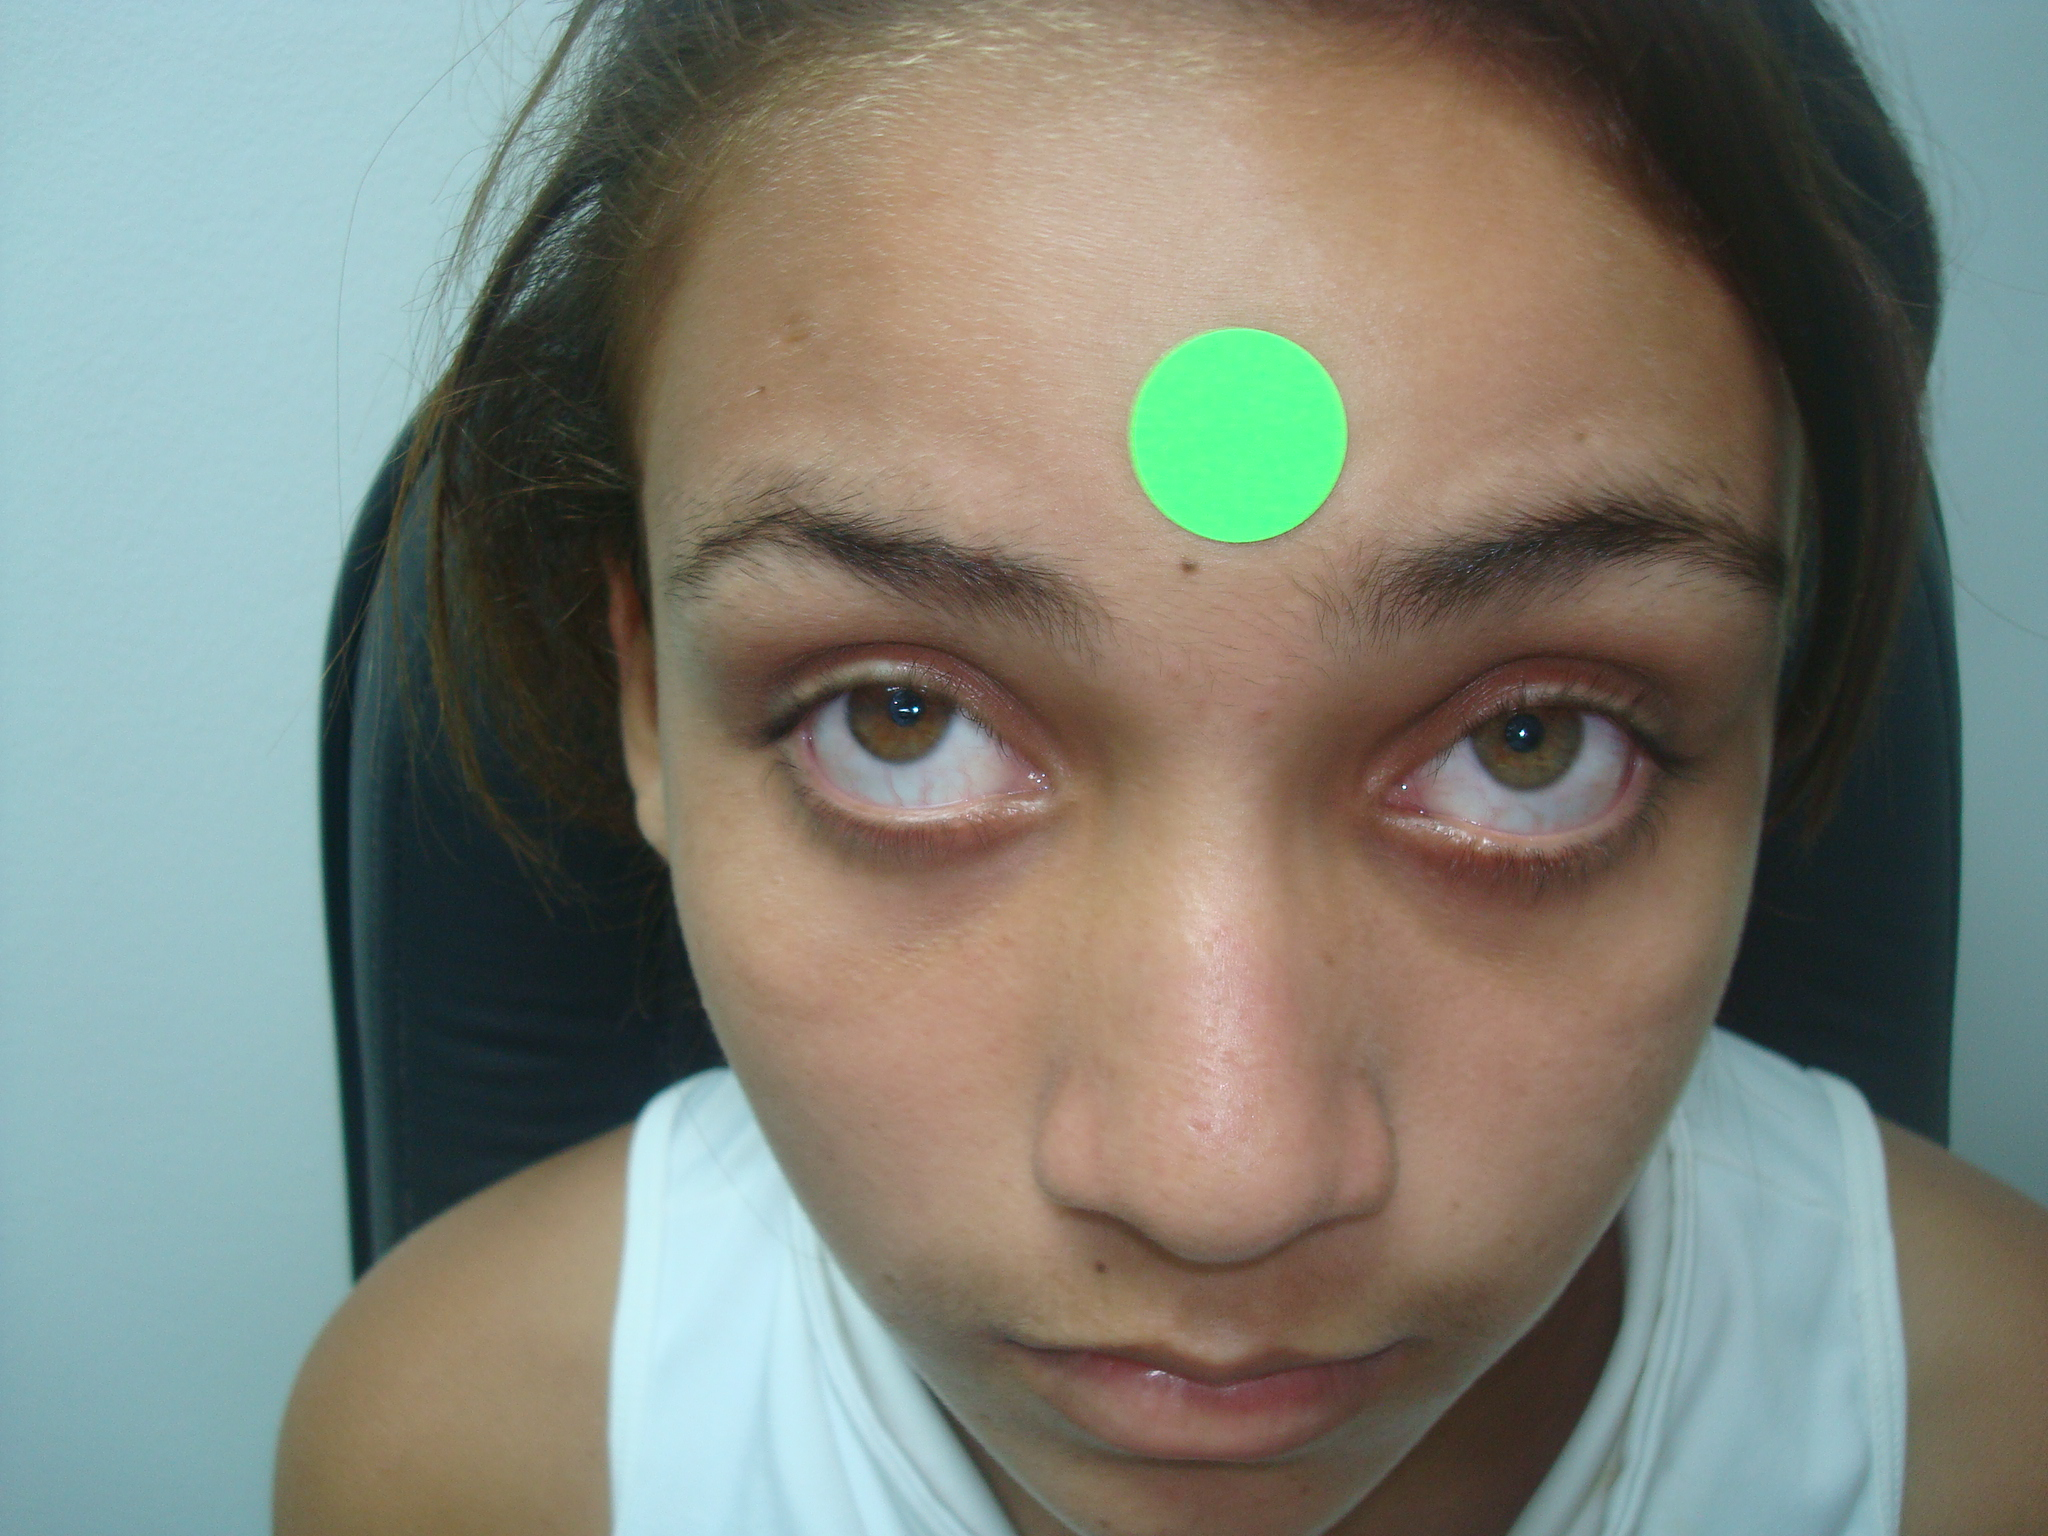flash: (1514, 726, 1529, 741), (910, 702, 922, 718)
limbo: (1467, 679, 1576, 784), (856, 662, 956, 755)
